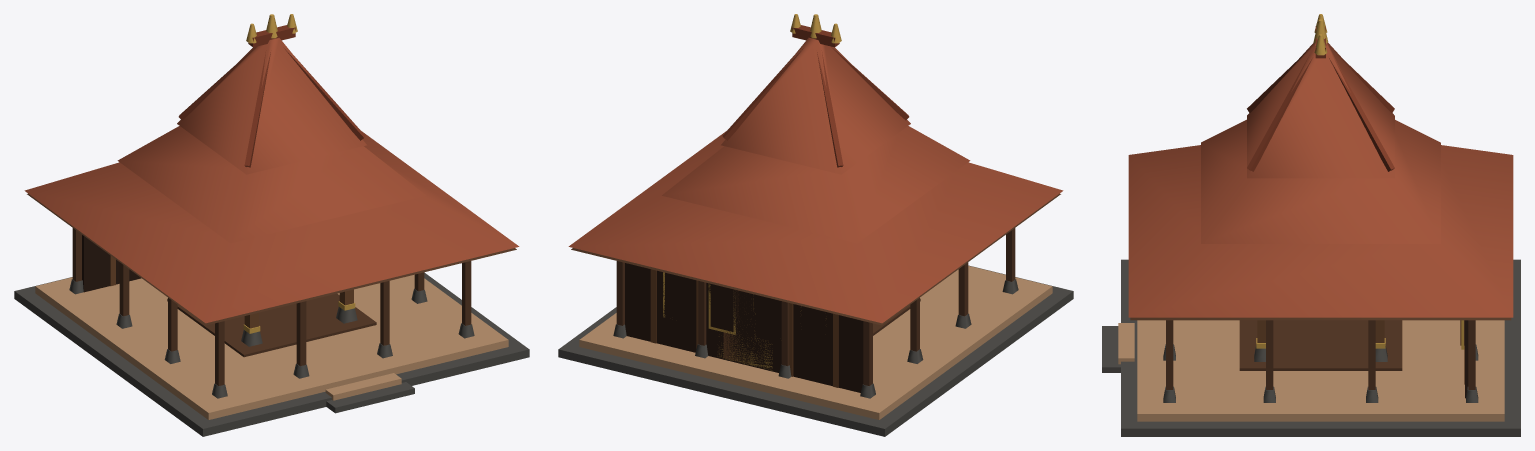
The model's file is rumah-joglo.glb.
3 renders of one model, left to right at view 1: azimuth 30°, elevation 25°; view 2: azimuth 150°, elevation 25°; view 3: azimuth 270°, elevation 25°, orthographic. The views are drawn at different scales.
Visible parts, largest first — view 1: atap_brunjung, pendopo_lantai, tiang_penanggap, umpak_batu, gebyok_dalem, soko_guru; view 2: atap_brunjung, pendopo_lantai, gebyok_dalem, tiang_penanggap, umpak_batu; view 3: atap_brunjung, pendopo_lantai, tiang_penanggap, umpak_batu, soko_guru, gebyok_dalem.
Part boxes in pixels (x1,y1,x2,y2): atap_brunjung: (24, 14, 519, 325); pendopo_lantai: (14, 272, 529, 436); tiang_penanggap: (72, 228, 471, 385); umpak_batu: (69, 279, 474, 398); gebyok_dalem: (82, 235, 141, 292); soko_guru: (243, 289, 355, 333); atap_brunjung: (568, 14, 1063, 325); pendopo_lantai: (558, 265, 1073, 436); gebyok_dalem: (625, 263, 863, 392); tiang_penanggap: (616, 228, 1015, 385); umpak_batu: (613, 279, 1018, 398); atap_brunjung: (1128, 14, 1513, 320); pendopo_lantai: (1102, 259, 1520, 436); tiang_penanggap: (1166, 320, 1475, 389); umpak_batu: (1163, 344, 1478, 402); soko_guru: (1256, 320, 1385, 348); gebyok_dalem: (1460, 320, 1468, 398).
Bounding box in the file's own units: 8.6 × 7.88 × 9.01.
